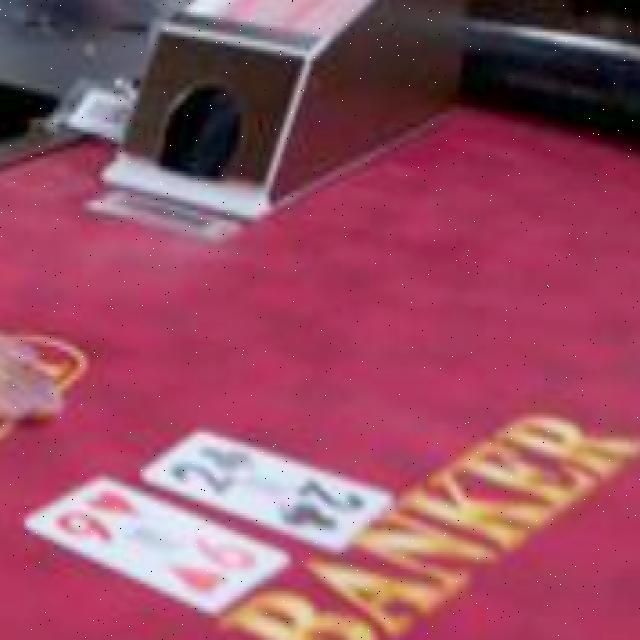Card-2: (143, 427, 389, 555)
Card-9: (24, 474, 290, 615)
